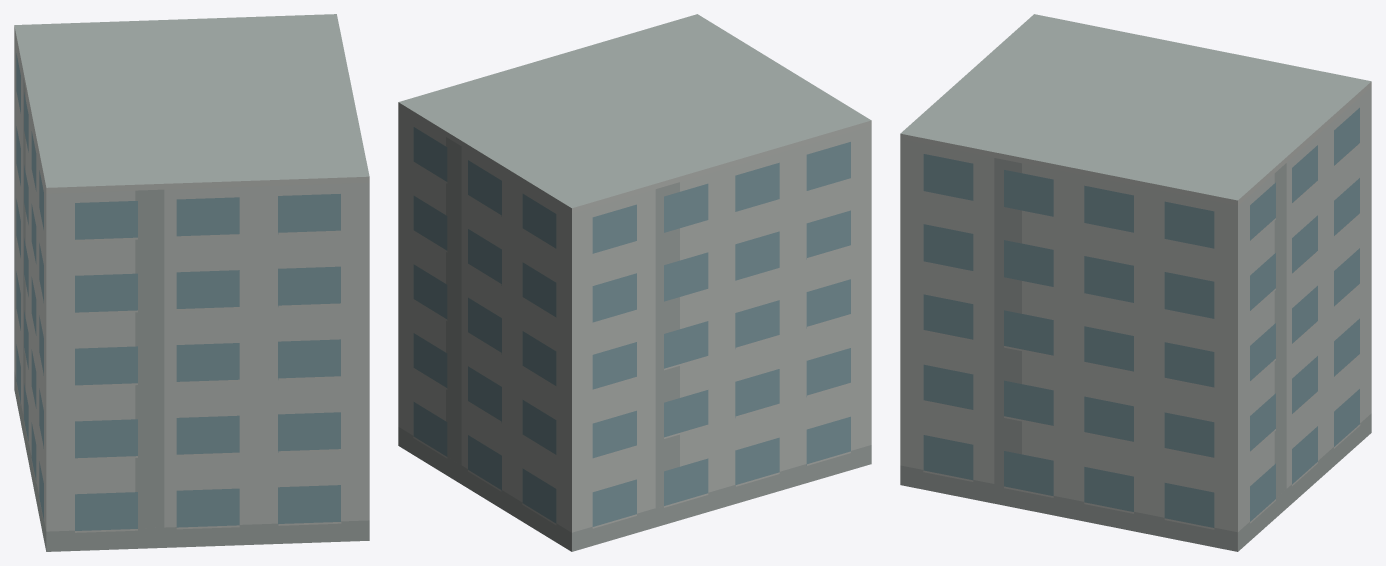
The model's file is survey-upis-32553346.glb.
3 renders of one model, left to right at view 1: azimuth 30°, elevation 25°; view 2: azimuth 150°, elevation 25°; view 3: azimuth 270°, elevation 25°, orthographic. The views are drawn at different scales.
Visible parts, largest first — view 1: survey-upis-32553346.tmp; view 2: survey-upis-32553346.tmp; view 3: survey-upis-32553346.tmp.
Boxes of the visible parts, x1,y1,x2,y2 form: survey-upis-32553346.tmp: (14,14,369,551); survey-upis-32553346.tmp: (398,14,871,551); survey-upis-32553346.tmp: (900,14,1371,551).
Bounding box in the file's own units: 17.37 × 15.25 × 18.55.
